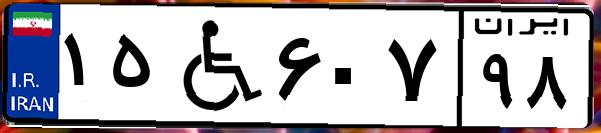0: (330, 28, 385, 110)
1: (57, 26, 110, 100)
5: (110, 28, 158, 98)
6: (270, 28, 330, 110)
7: (385, 28, 445, 110)
8: (525, 38, 570, 115)
9: (475, 38, 525, 113)
ژ (معلولین و جانبازان): (158, 12, 270, 120)
